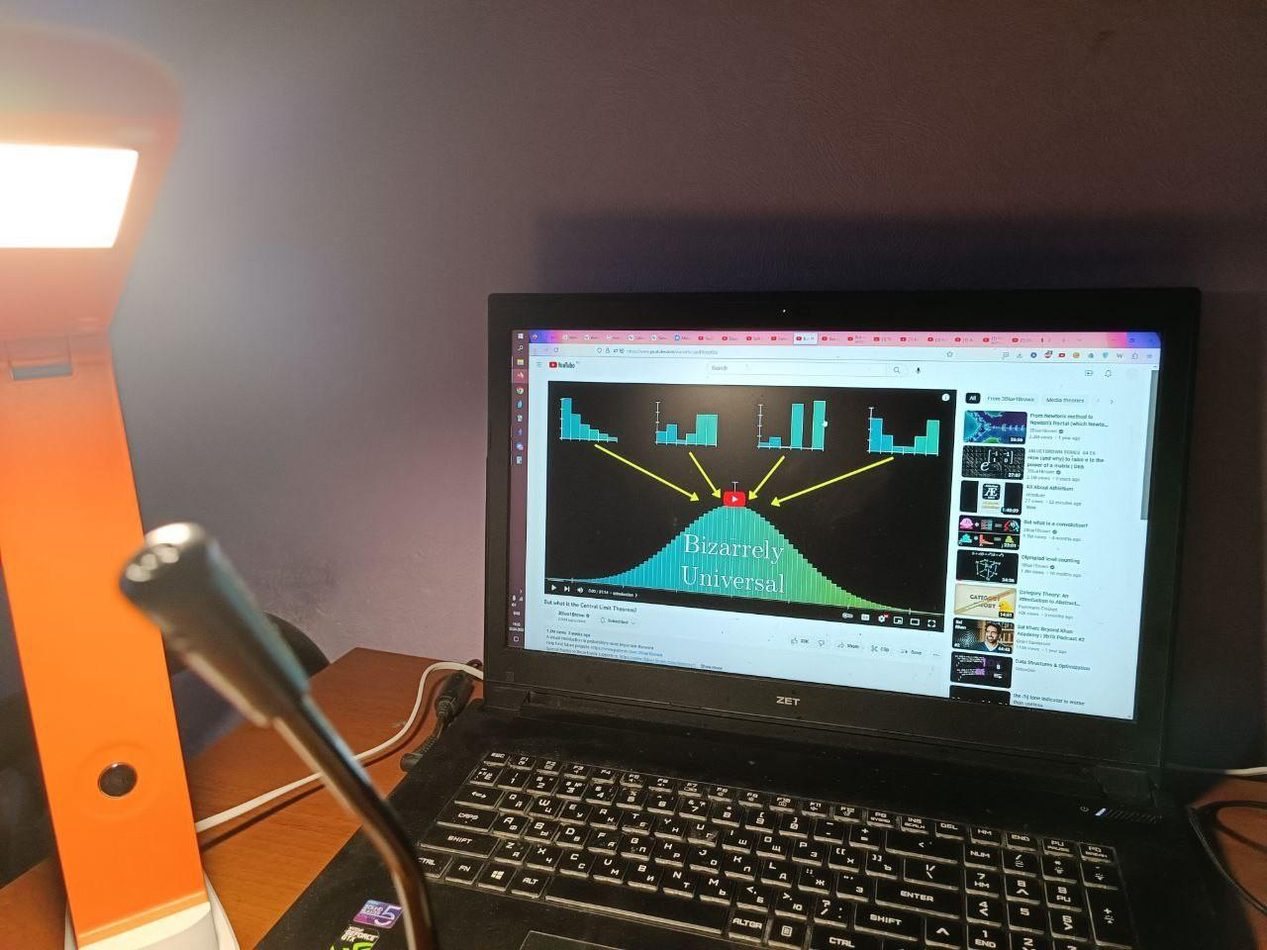monitor: (479, 280, 1206, 802)
